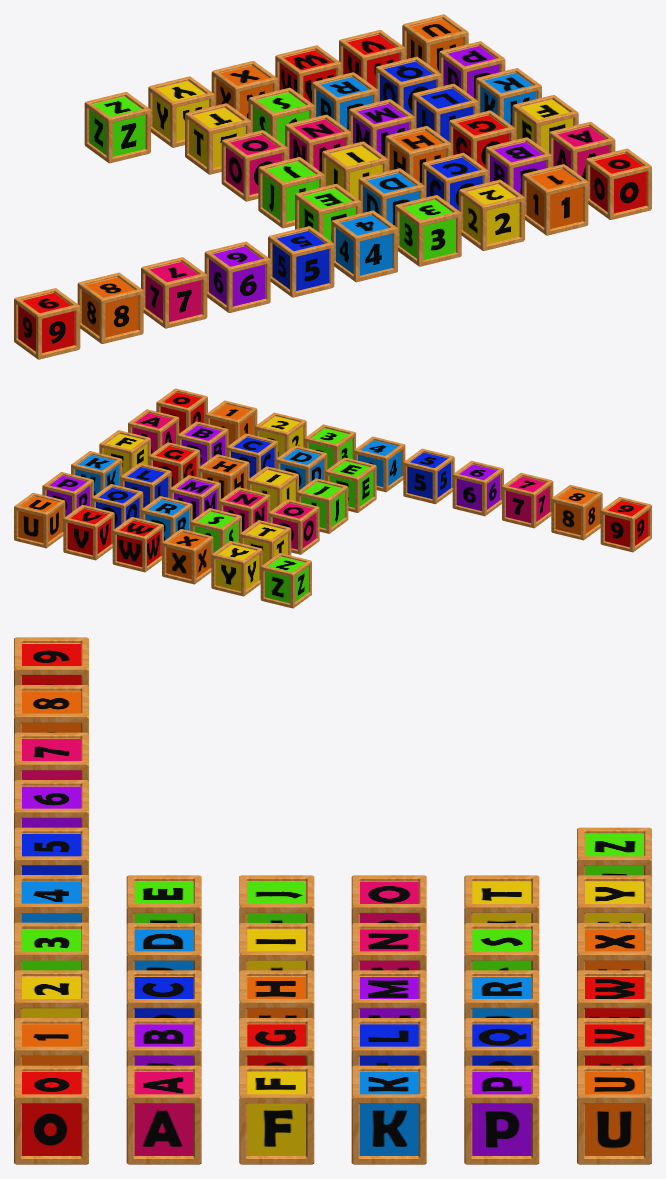
File: AlphabetBlocks.fbx
3 renders of one model, top to bottom at view 1: azimuth 30°, elevation 25°; view 2: azimuth 150°, elevation 25°; view 3: azimuth 270°, elevation 25°, orthographic. The views are drawn at different scales.
Visible parts, largest first — view 1: Cube.002, Cube.007, Cube.009, Cube.040, Cube.003, Cube.005, Cube.001, Cube.004, Cube.006, Cube.008, Cube.026, Z (+60 smaller); view 2: Cube.038, Cube.009, Cube.030, Cube.007, Cube.034, Cube.036, Cube.026, Cube.006, Cube.008, Cube.019, Cube.040, Nine (+60 smaller); view 3: Cube.011, Cube.015, Cube.001, Cube.013, Cube.017, Cube.019, F, K, A, P, Zero, U (+60 smaller).
Boxes of the visible parts, left/top/right/bottom form: Cube.002: left=463, top=184, right=519, bottom=244; Cube.007: left=209, top=246, right=265, bottom=306; Cube.009: left=82, top=277, right=138, bottom=337; Cube.040: left=89, top=96, right=145, bottom=156; Cube.003: left=526, top=169, right=582, bottom=228; Cube.005: left=336, top=215, right=392, bottom=275; Cube.001: left=590, top=153, right=646, bottom=213; Cube.004: left=399, top=199, right=455, bottom=260; Cube.006: left=272, top=231, right=328, bottom=290; Cube.008: left=145, top=262, right=201, bottom=321; Cube.026: left=18, top=293, right=74, bottom=352; Z: left=84, top=92, right=150, bottom=163; Cube.038: left=215, top=544, right=259, bottom=591; Cube.009: left=555, top=488, right=599, bottom=535; Cube.030: left=67, top=508, right=111, bottom=555; Cube.007: left=456, top=464, right=500, bottom=510; Cube.034: left=117, top=520, right=160, bottom=567; Cube.036: left=166, top=532, right=209, bottom=579; Cube.026: left=605, top=500, right=648, bottom=547; Cube.006: left=407, top=452, right=450, bottom=498; Cube.008: left=506, top=476, right=549, bottom=522; Cube.019: left=18, top=496, right=61, bottom=543; Cube.040: left=265, top=556, right=308, bottom=603; Nine: left=600, top=497, right=651, bottom=552; Cube.011: left=134, top=1072, right=193, bottom=1155; Cube.015: left=472, top=1072, right=531, bottom=1155; Cube.001: left=22, top=1072, right=80, bottom=1155; Cube.013: left=247, top=1072, right=305, bottom=1155; Cube.017: left=360, top=1072, right=418, bottom=1155; Cube.019: left=585, top=1072, right=643, bottom=1155; F: left=239, top=1065, right=314, bottom=1164; K: left=351, top=1065, right=426, bottom=1164; A: left=126, top=1065, right=201, bottom=1164; P: left=464, top=1065, right=539, bottom=1164; Zero: left=14, top=1065, right=88, bottom=1164; U: left=577, top=1065, right=651, bottom=1164.
Size of the model in its own units: 29 by 2 by 17.
